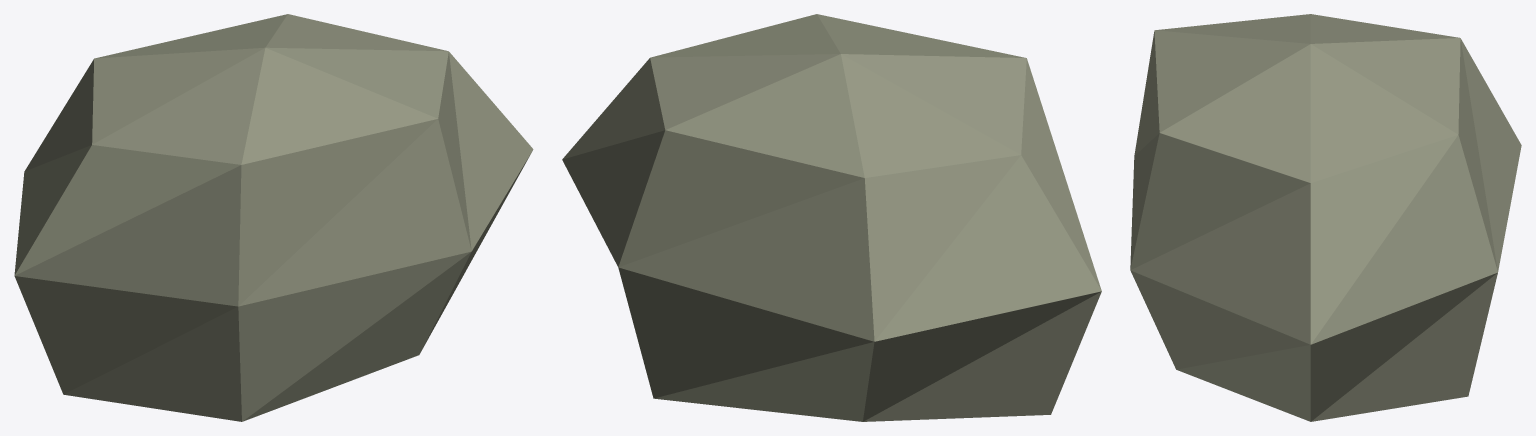
File: rock_field_lod1.obj
3 renders of one model, left to right at view 1: azimuth 30°, elevation 25°; view 2: azimuth 150°, elevation 25°; view 3: azimuth 270°, elevation 25°, orthographic. The views are drawn at different scales.
Visible parts, largest first — view 1: rock_field_lod1; view 2: rock_field_lod1; view 3: rock_field_lod1.
Boxes of the visible parts, left/top/right/bottom form: rock_field_lod1: left=14, top=14, right=533, bottom=421; rock_field_lod1: left=562, top=14, right=1101, bottom=421; rock_field_lod1: left=1130, top=14, right=1521, bottom=421.
Bounding box in the file's own units: 1.11 × 0.68 × 0.7149.
Materials: 1 (1 with a texture image).
